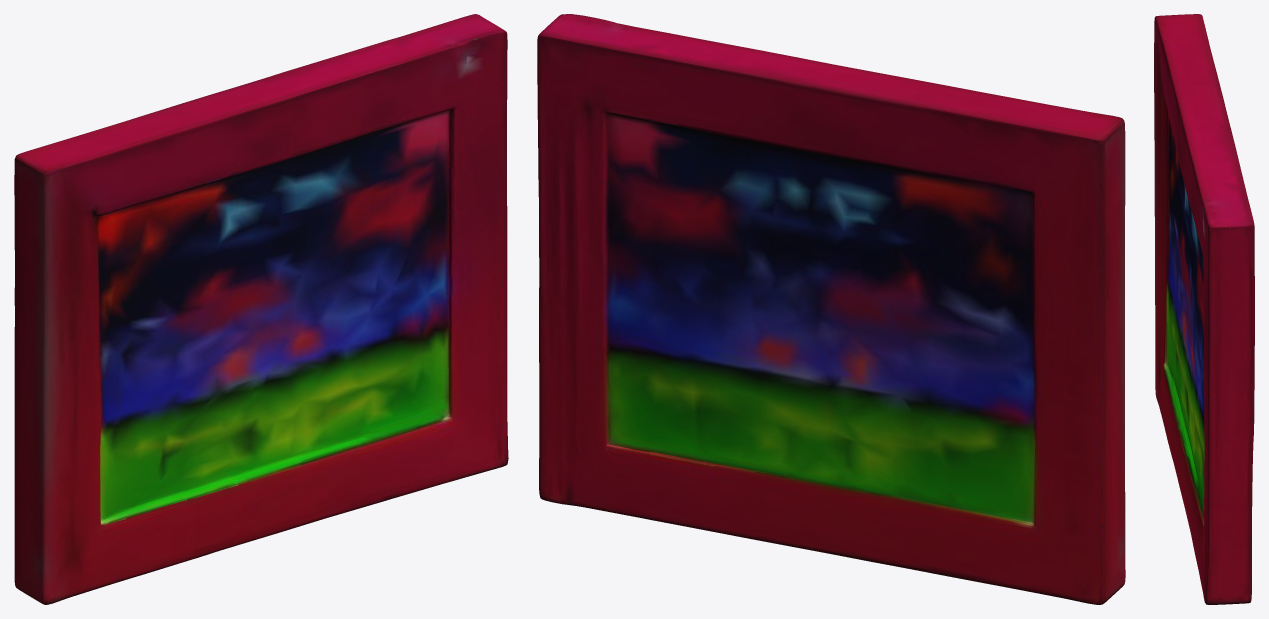
Rendered from framed_red_and_green_painting_on_wall_000.glb.
3 renders of one model, left to right at view 1: azimuth 30°, elevation 25°; view 2: azimuth 150°, elevation 25°; view 3: azimuth 270°, elevation 25°, orthographic. The views are drawn at different scales.
Parts seen in each view (by area): view 1: phase2_final_framed_red_and_green_painting_on_wall_000.obj; view 2: phase2_final_framed_red_and_green_painting_on_wall_000.obj; view 3: phase2_final_framed_red_and_green_painting_on_wall_000.obj.
Boxes of the visible parts, x1,y1,x2,y2 form: phase2_final_framed_red_and_green_painting_on_wall_000.obj: (14, 14, 508, 604); phase2_final_framed_red_and_green_painting_on_wall_000.obj: (537, 14, 1125, 604); phase2_final_framed_red_and_green_painting_on_wall_000.obj: (1154, 14, 1254, 604).
Size of the model in its own units: 0.357 by 0.298 by 0.0713.
Materials: 1 (1 with a texture image).
